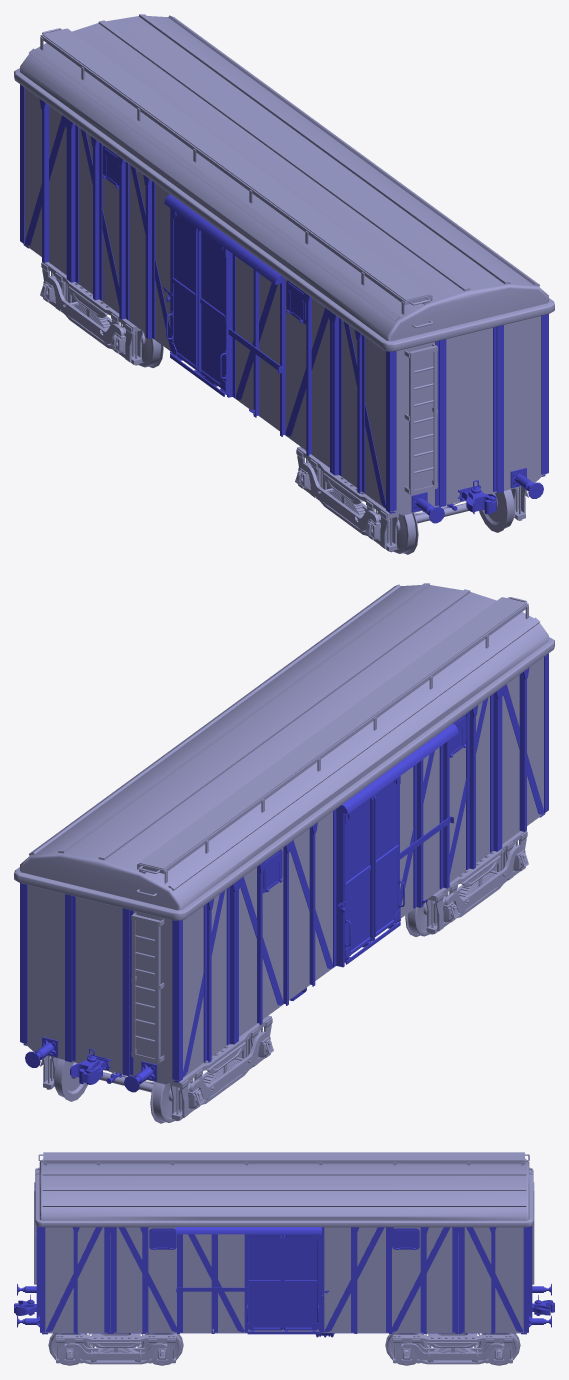
File: FreightVagonSt.FBX
3 renders of one model, top to bottom at view 1: azimuth 30°, elevation 25°; view 2: azimuth 150°, elevation 25°; view 3: azimuth 270°, elevation 25°, orthographic. The views are drawn at different scales.
Parts seen in each view (by area): view 1: FreightVagon; view 2: FreightVagon; view 3: FreightVagon.
Part boxes in pixels (<box>): FreightVagon: <box>14,14,554,554</box>; FreightVagon: <box>14,583,554,1123</box>; FreightVagon: <box>14,1152,554,1365</box>.
Size of the model in its own units: 143 by 199 by 547.
